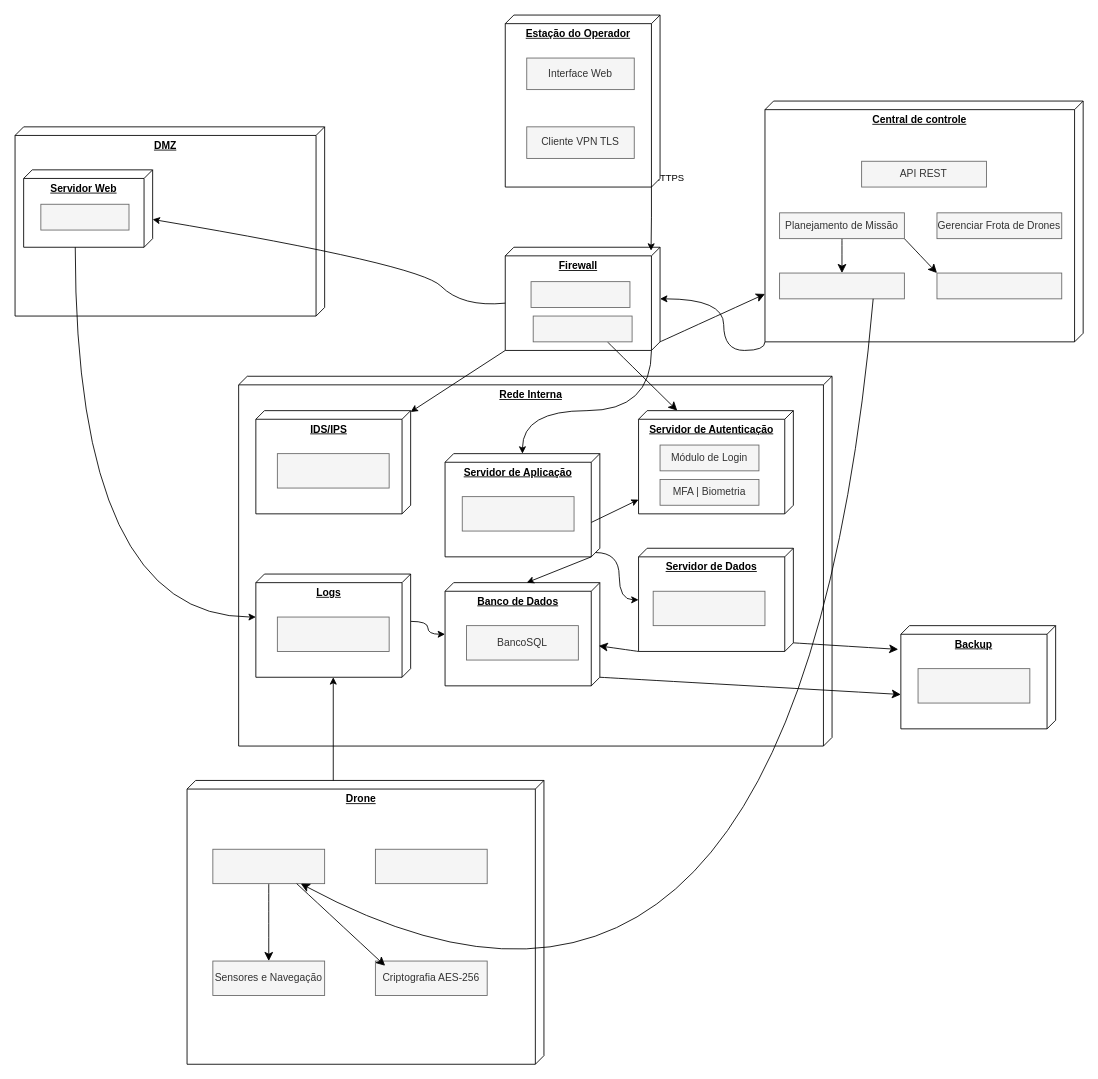
Image size: 1098x1079. Some labels were removed from this diagram. Each missing label, with the centre of its shape:
"app" belongs at point 84,216.
"Armazenamento em Nuvem" belongs at point 973,685.
"Canal TLS + HSM" belongs at point 431,866.
"Dashboard" belongs at point 517,513.
"Geração de alertas automáticos" belongs at point 332,470.
"Logs Imutáveis" belongs at point 708,608.
"Monitor de Telemetria" belongs at point 999,285.
"Módulo IA" belongs at point 268,866.
"Proteção API" belongs at point 582,328.
"Registro dos logs gerais" belongs at point 332,633.
"Regras de entrada/saída" belongs at point 580,294.
"Transmissão de Condições" belongs at point 841,285.
